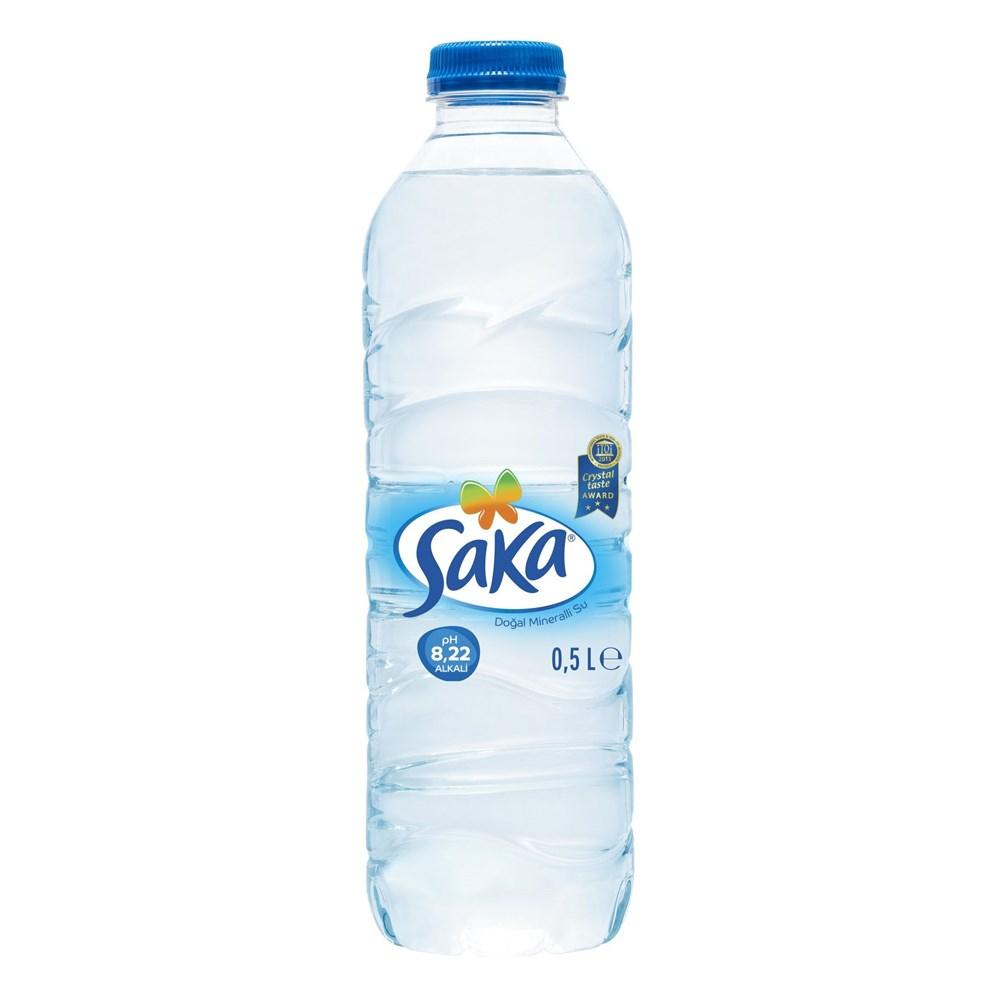bottle: (338, 25, 663, 970)
